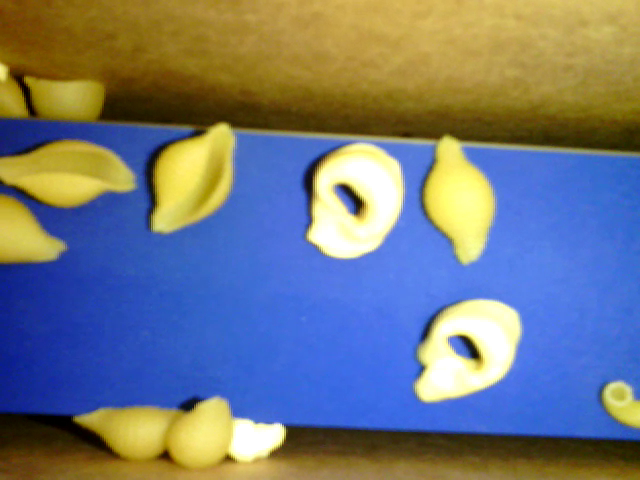elbow: (603, 380, 639, 426)
shell: (147, 122, 238, 238), (420, 133, 497, 265), (2, 138, 136, 210), (71, 406, 192, 463), (2, 193, 71, 268), (171, 396, 233, 467), (25, 77, 105, 123)
tortellini: (299, 140, 403, 262), (413, 296, 523, 405)
